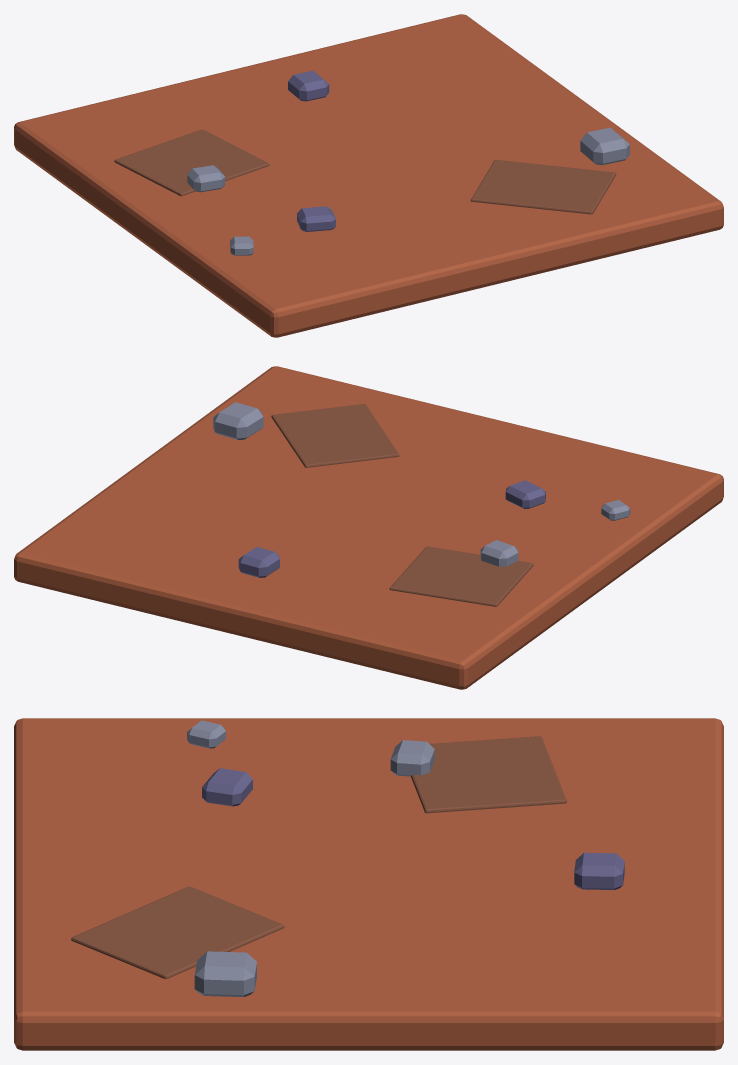
Rendered from mine-floor-stones.glb.
3 renders of one model, top to bottom at view 1: azimuth 30°, elevation 25°; view 2: azimuth 150°, elevation 25°; view 3: azimuth 270°, elevation 25°, orthographic. The views are drawn at different scales.
Visible parts, largest first — view 1: mine-floor-stones; view 2: mine-floor-stones; view 3: mine-floor-stones.
Part boxes in pixels (x1,y1,x2,y2): mine-floor-stones: (14,14,723,337); mine-floor-stones: (14,366,723,689); mine-floor-stones: (14,718,723,1050).
Size of the model in its own units: 1 by 0.1022 by 1.
Materials: 1 (1 with a texture image).
